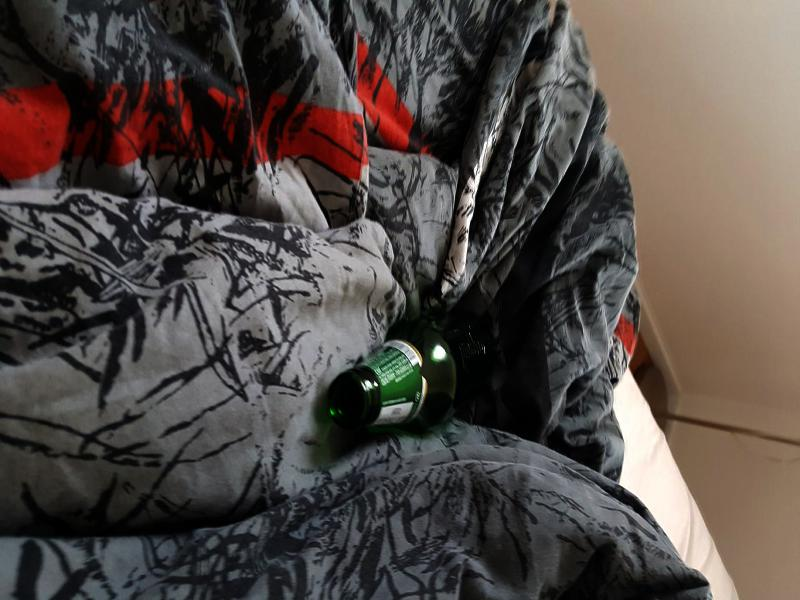Beer: (327, 311, 496, 434)
